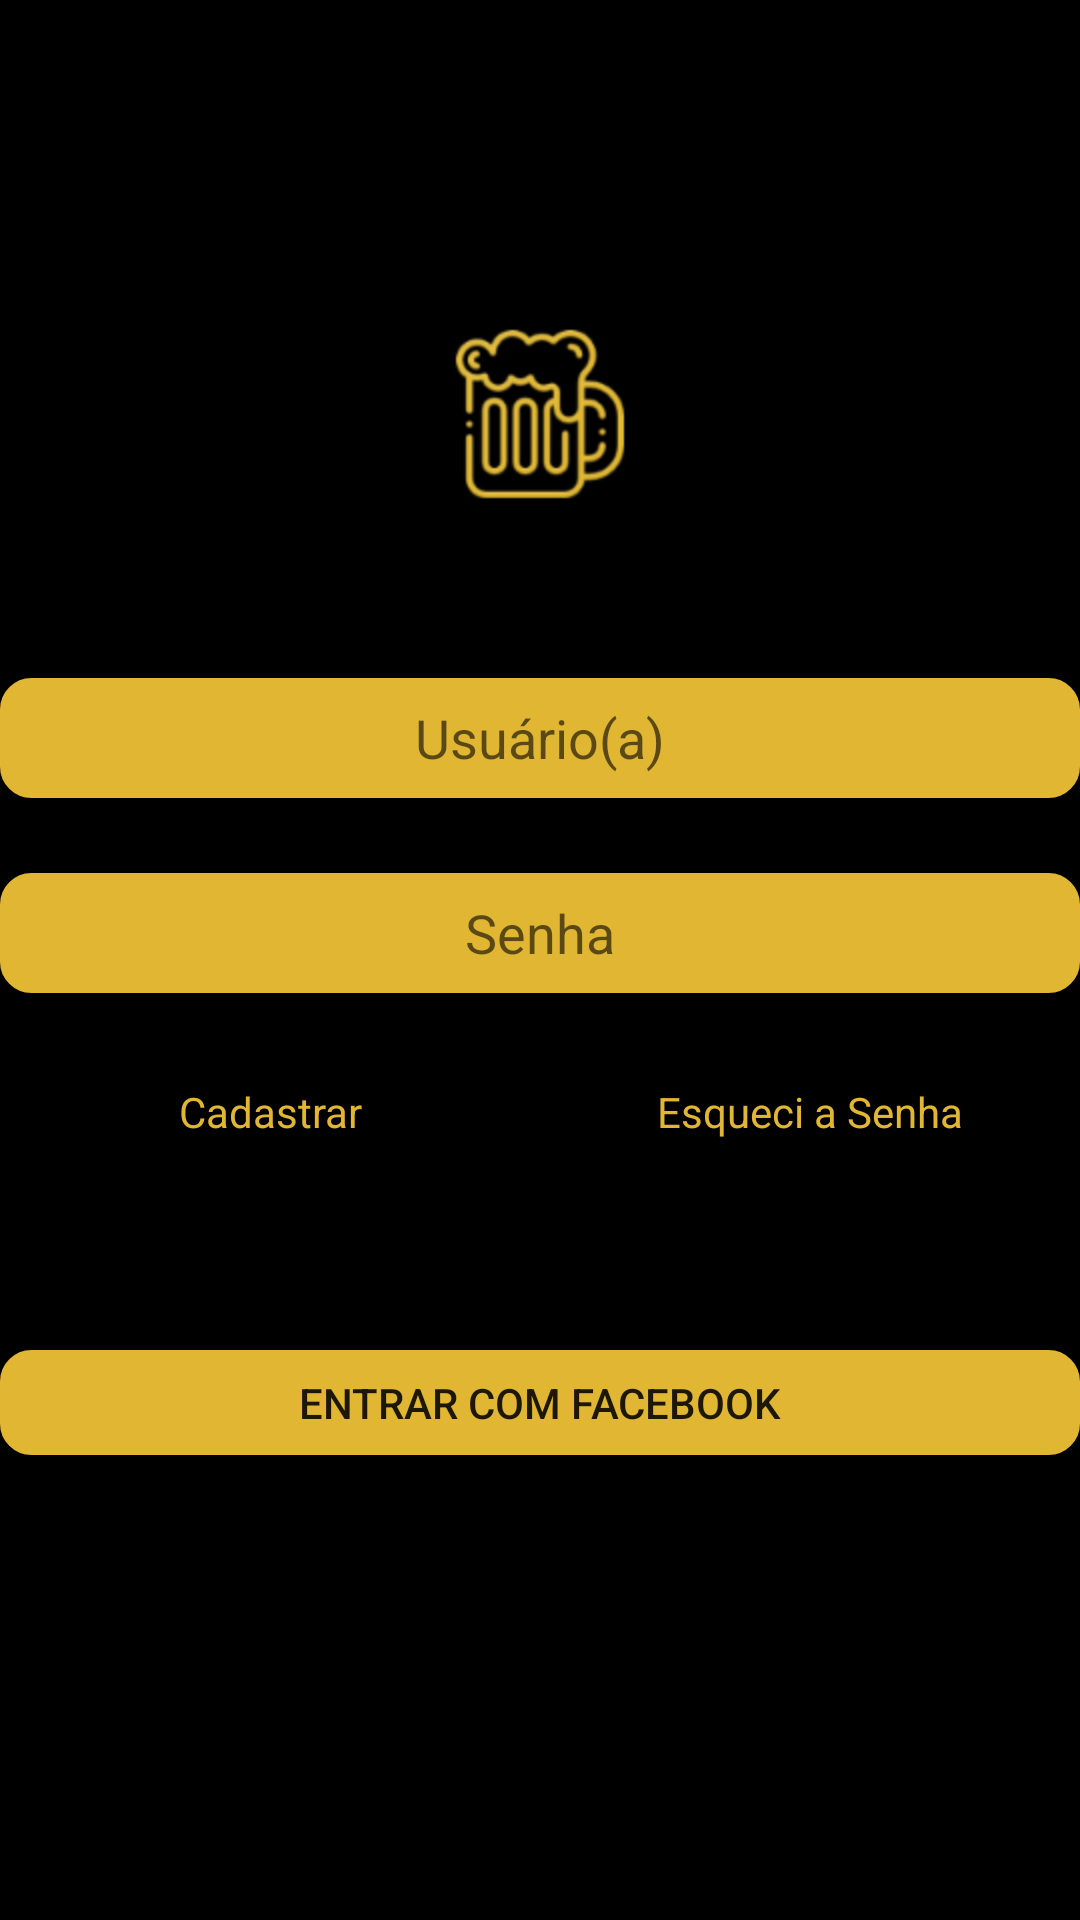

Icon click points for this 1080×1920 phone screenshot, format [x,y]:
beer: [540,414]
